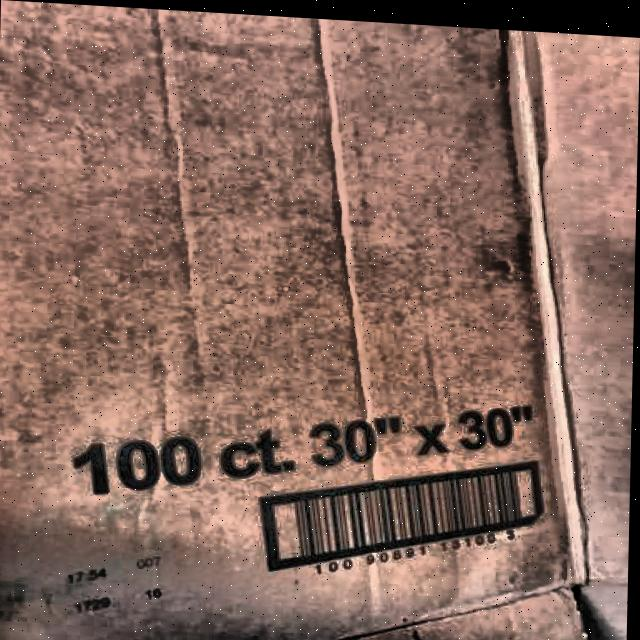cardboard: (0, 0, 636, 640)
